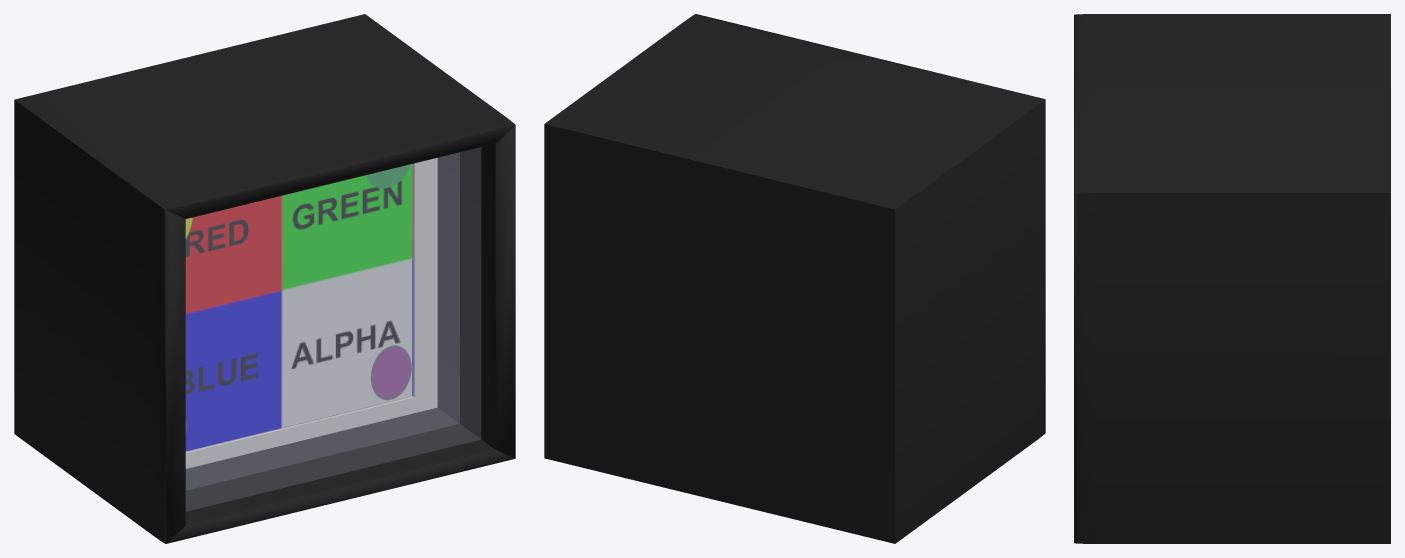
The model's file is Frame10_Theme.glb.
3 views of the same model, side by side, from view 1: azimuth 30°, elevation 25°; view 2: azimuth 150°, elevation 25°; view 3: azimuth 270°, elevation 25° (orthographic). The views are drawn at different scales.
Visible parts, largest first — view 1: Box046_Material #25_0, Box046_Material #26_0, A_PaintingMesh, Box046_Frame_0; view 2: Box046_Material #25_0; view 3: Box046_Material #25_0.
Boxes of the visible parts, x1=… form: Box046_Material #25_0: x1=14, y1=14, x2=515, y2=543; Box046_Material #26_0: x1=186, y1=147, x2=480, y2=511; A_PaintingMesh: x1=185, y1=164, x2=413, y2=451; Box046_Frame_0: x1=185, y1=158, x2=437, y2=468; Box046_Material #25_0: x1=544, y1=14, x2=1045, y2=543; Box046_Material #25_0: x1=1074, y1=14, x2=1390, y2=543.
Size of the model in its own units: 1.34 by 1.22 by 1.
Materials: 4 (1 with a texture image).
